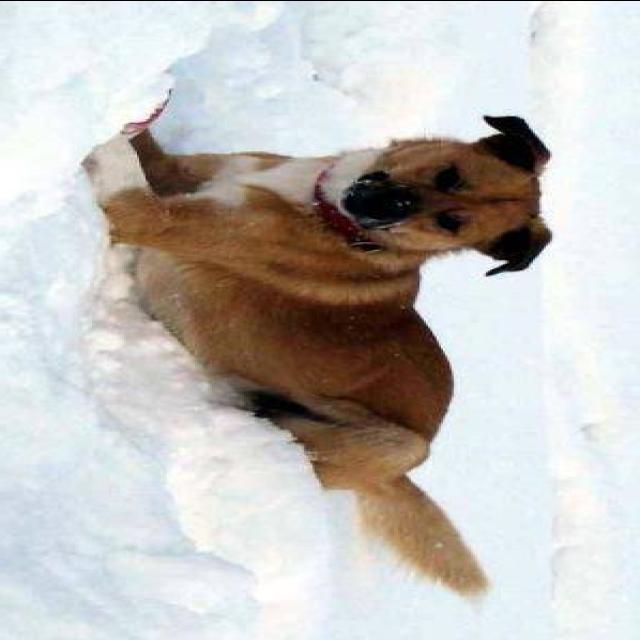dog: (78, 68, 582, 618)
